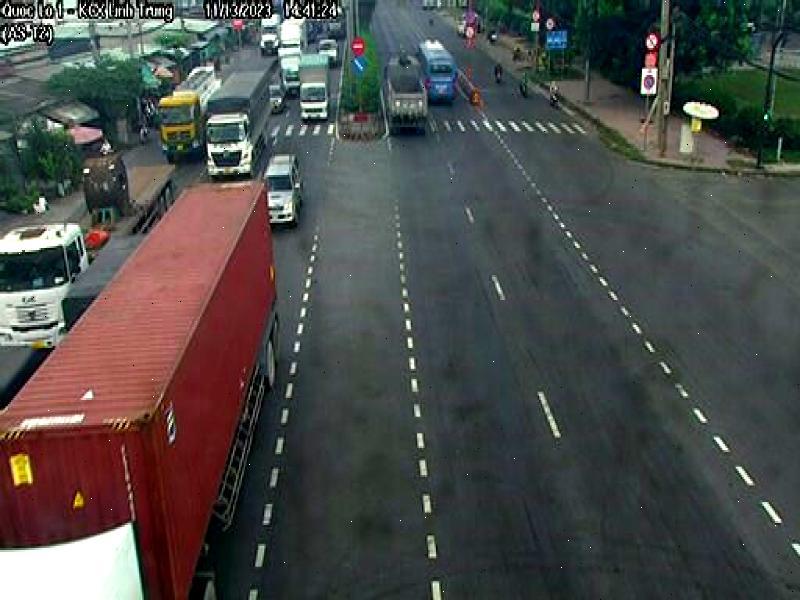bus: (419, 34, 458, 110)
truck: (0, 174, 279, 600), (207, 65, 277, 180), (156, 59, 218, 159)
